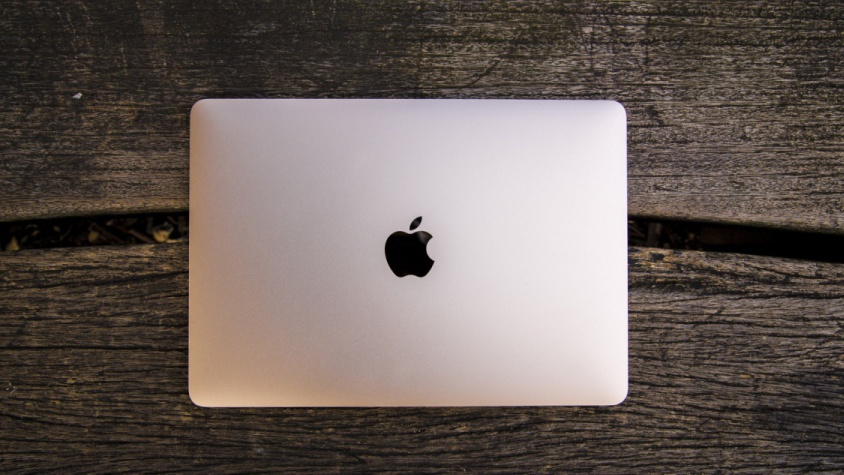apple: (368, 199, 443, 293)
